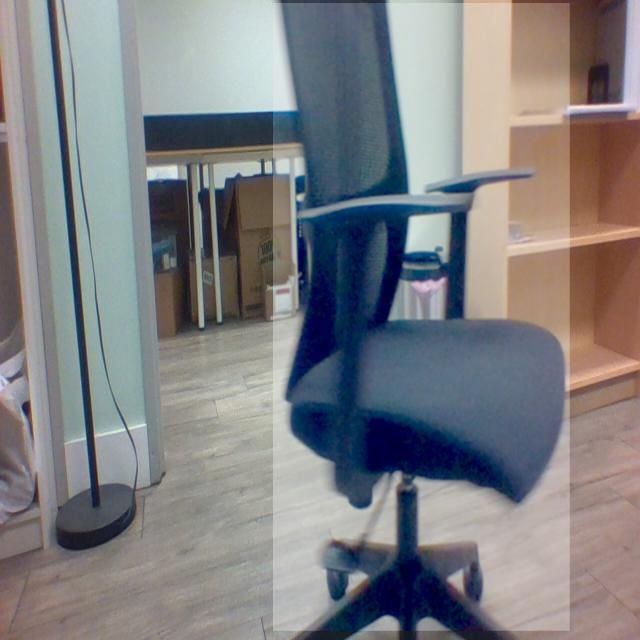chair: (273, 4, 571, 632)
